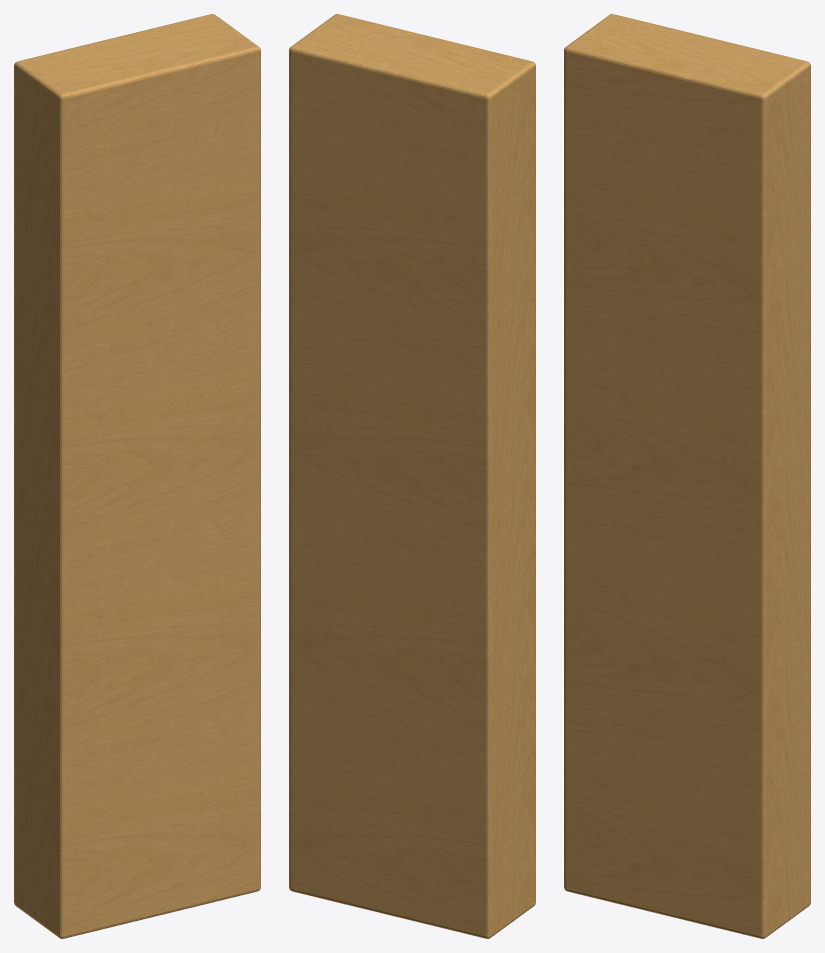
3 renders of one model, left to right at view 1: azimuth 30°, elevation 25°; view 2: azimuth 150°, elevation 25°; view 3: azimuth 330°, elevation 25°, orthographic.
Visible parts, largest first — view 1: plank_target_point; view 2: plank_target_point; view 3: plank_target_point.
Part boxes in pixels (x1,y1,x2,y2): plank_target_point: (14, 14, 260, 938); plank_target_point: (289, 14, 535, 938); plank_target_point: (564, 14, 810, 938).
Bounding box in the file's own units: 0.085 × 0.34 × 0.035.
1 material, 1 textured.
